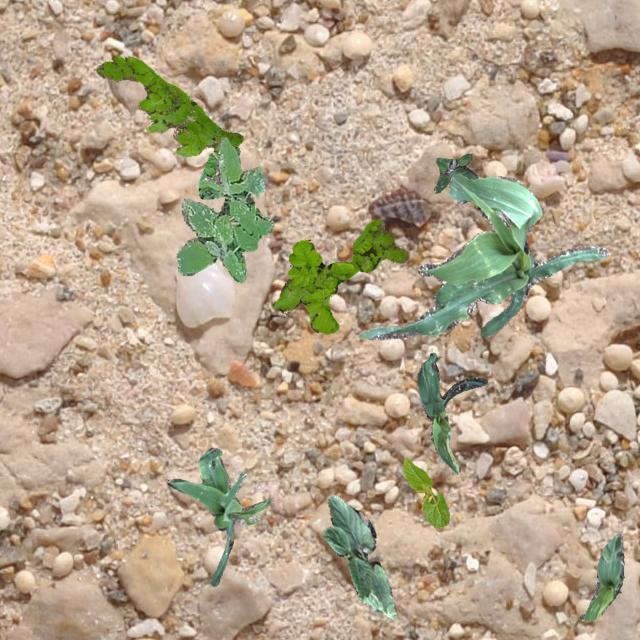crop: (358, 172, 608, 338), (166, 446, 272, 584), (322, 494, 394, 618), (416, 352, 486, 472), (578, 532, 622, 620), (402, 456, 448, 526)
weed: (272, 218, 408, 332), (96, 54, 242, 156), (174, 136, 274, 282), (198, 146, 238, 198), (432, 152, 477, 192)
